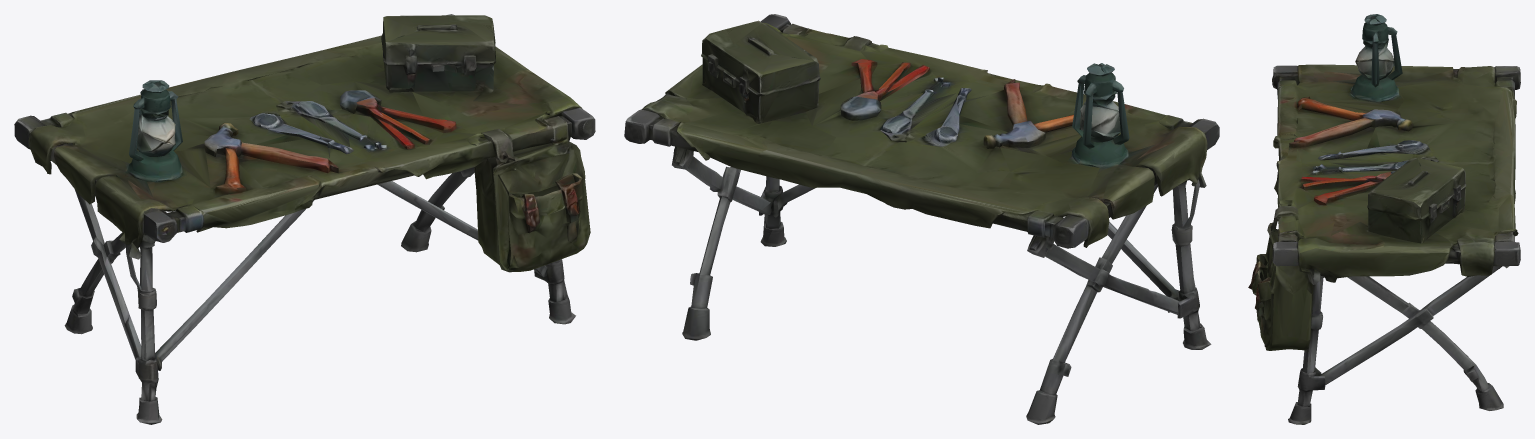
Rendered from workbench_basic_skladnoy_pohodnyy_idle.glb.
3 views of the same model, side by side, from view 1: azimuth 30°, elevation 25°; view 2: azimuth 150°, elevation 25°; view 3: azimuth 270°, elevation 25° (orthographic). The views are drawn at different scales.
Visible parts, largest first — view 1: tripo_node_793e4827-1e9c-4b42-a5d8-debb1b8fbf91; view 2: tripo_node_793e4827-1e9c-4b42-a5d8-debb1b8fbf91; view 3: tripo_node_793e4827-1e9c-4b42-a5d8-debb1b8fbf91.
Part boxes in pixels (left/top/right/bottom): tripo_node_793e4827-1e9c-4b42-a5d8-debb1b8fbf91: left=14, top=14, right=595, bottom=424; tripo_node_793e4827-1e9c-4b42-a5d8-debb1b8fbf91: left=624, top=14, right=1219, bottom=424; tripo_node_793e4827-1e9c-4b42-a5d8-debb1b8fbf91: left=1248, top=14, right=1520, bottom=424.
Bounding box in the file's own units: 1.52 × 0.9483 × 0.9264.
Materials: 1 (1 with a texture image).
